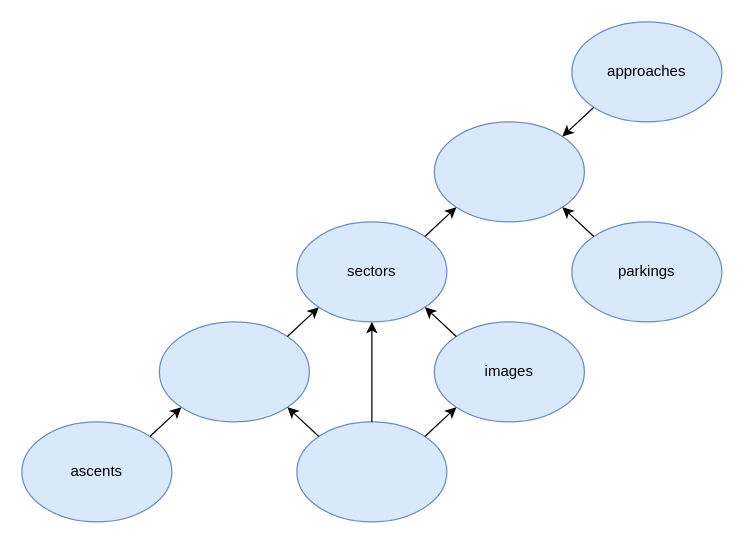
Image size: 744x544. Some labels were removed from this diagram. Here are the shapes that lost their labels. From the top down, the centre of each, then its label:
At [508,171]: "crags".
At [233,371]: "climbs".
At [371,471]: "lines".
